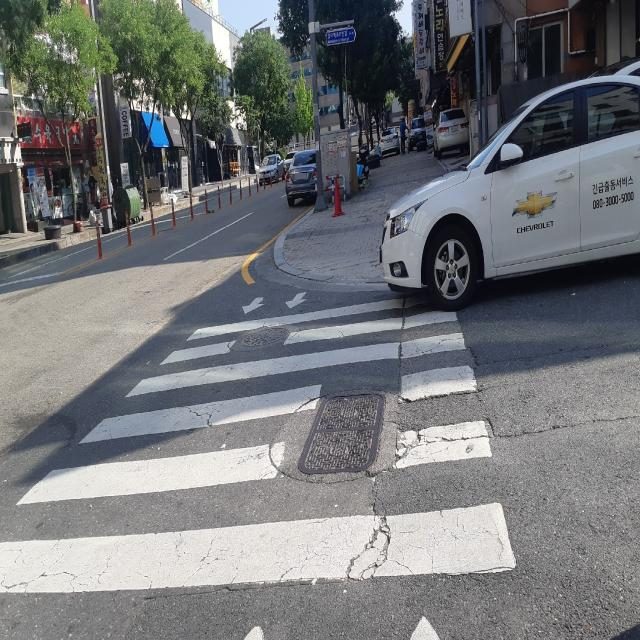횡단보도: (0, 291, 516, 639)
